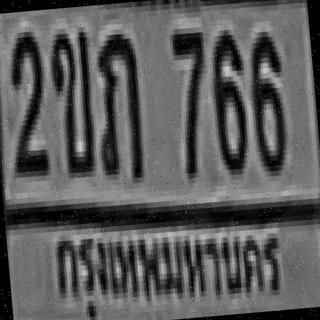A02: (48, 27, 96, 174)
A32: (88, 28, 143, 176)
N02: (2, 26, 48, 173)
N06: (206, 24, 248, 170), (245, 26, 286, 172)
N07: (169, 27, 212, 174)
P04: (42, 203, 288, 320)
